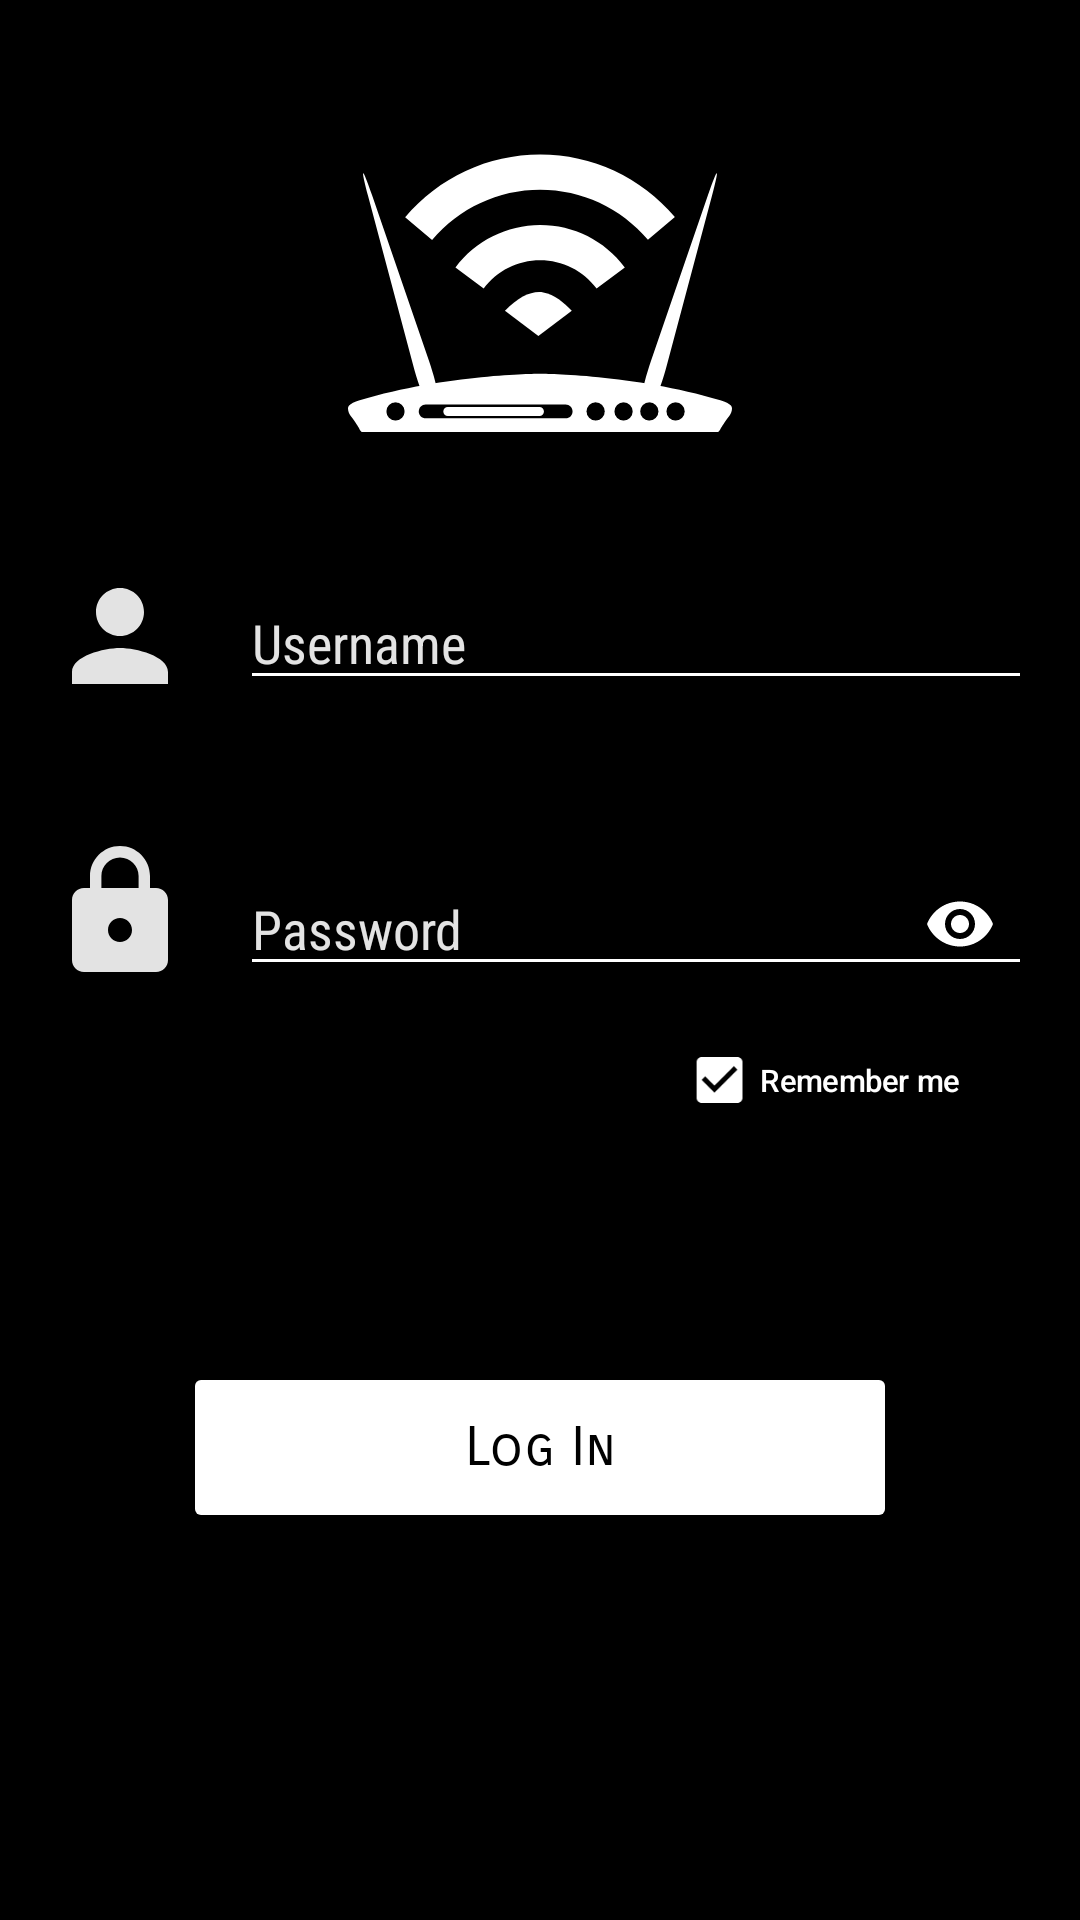

Screen size 1080w x 1920h. Icon name, then its center in pixels as (x=x, y=y):
lock: (x=120, y=909)
